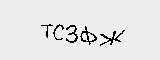Ж: (101, 29, 123, 49)
З: (66, 24, 80, 45)
С: (52, 24, 65, 41)
Т: (39, 22, 54, 39)
Ф: (83, 26, 97, 47)
